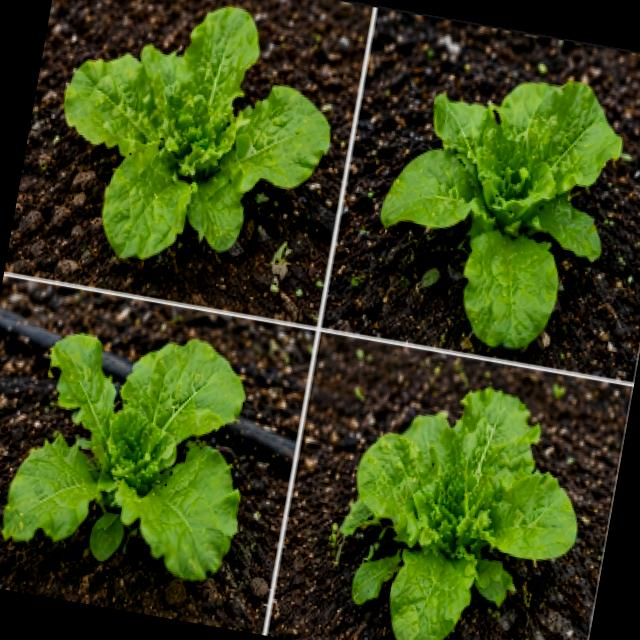inmadura: (65, 6, 330, 255), (382, 82, 622, 345), (342, 388, 577, 640), (3, 335, 244, 579)
